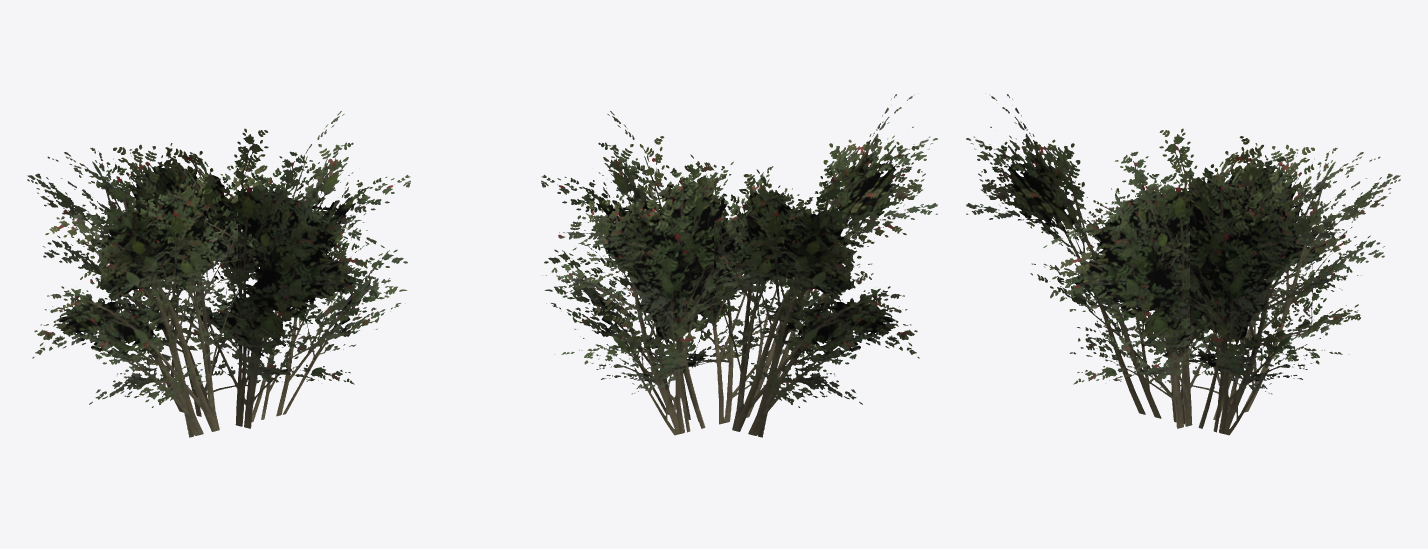
File: sipek_1_daleko.glb
3 views of the same model, side by side, from view 1: azimuth 30°, elevation 25°; view 2: azimuth 150°, elevation 25°; view 3: azimuth 270°, elevation 25° (orthographic).
Parts seen in each view (by area): view 1: sipek_1_daleko; view 2: sipek_1_daleko; view 3: sipek_1_daleko.
Boxes of the visible parts, bbox=[...] form: sipek_1_daleko: bbox=[27, 111, 410, 437]; sipek_1_daleko: bbox=[541, 94, 937, 437]; sipek_1_daleko: bbox=[966, 94, 1400, 435].
Size of the model in its own units: 2.75 by 1.78 by 2.38.
Materials: 3 (3 with a texture image).
